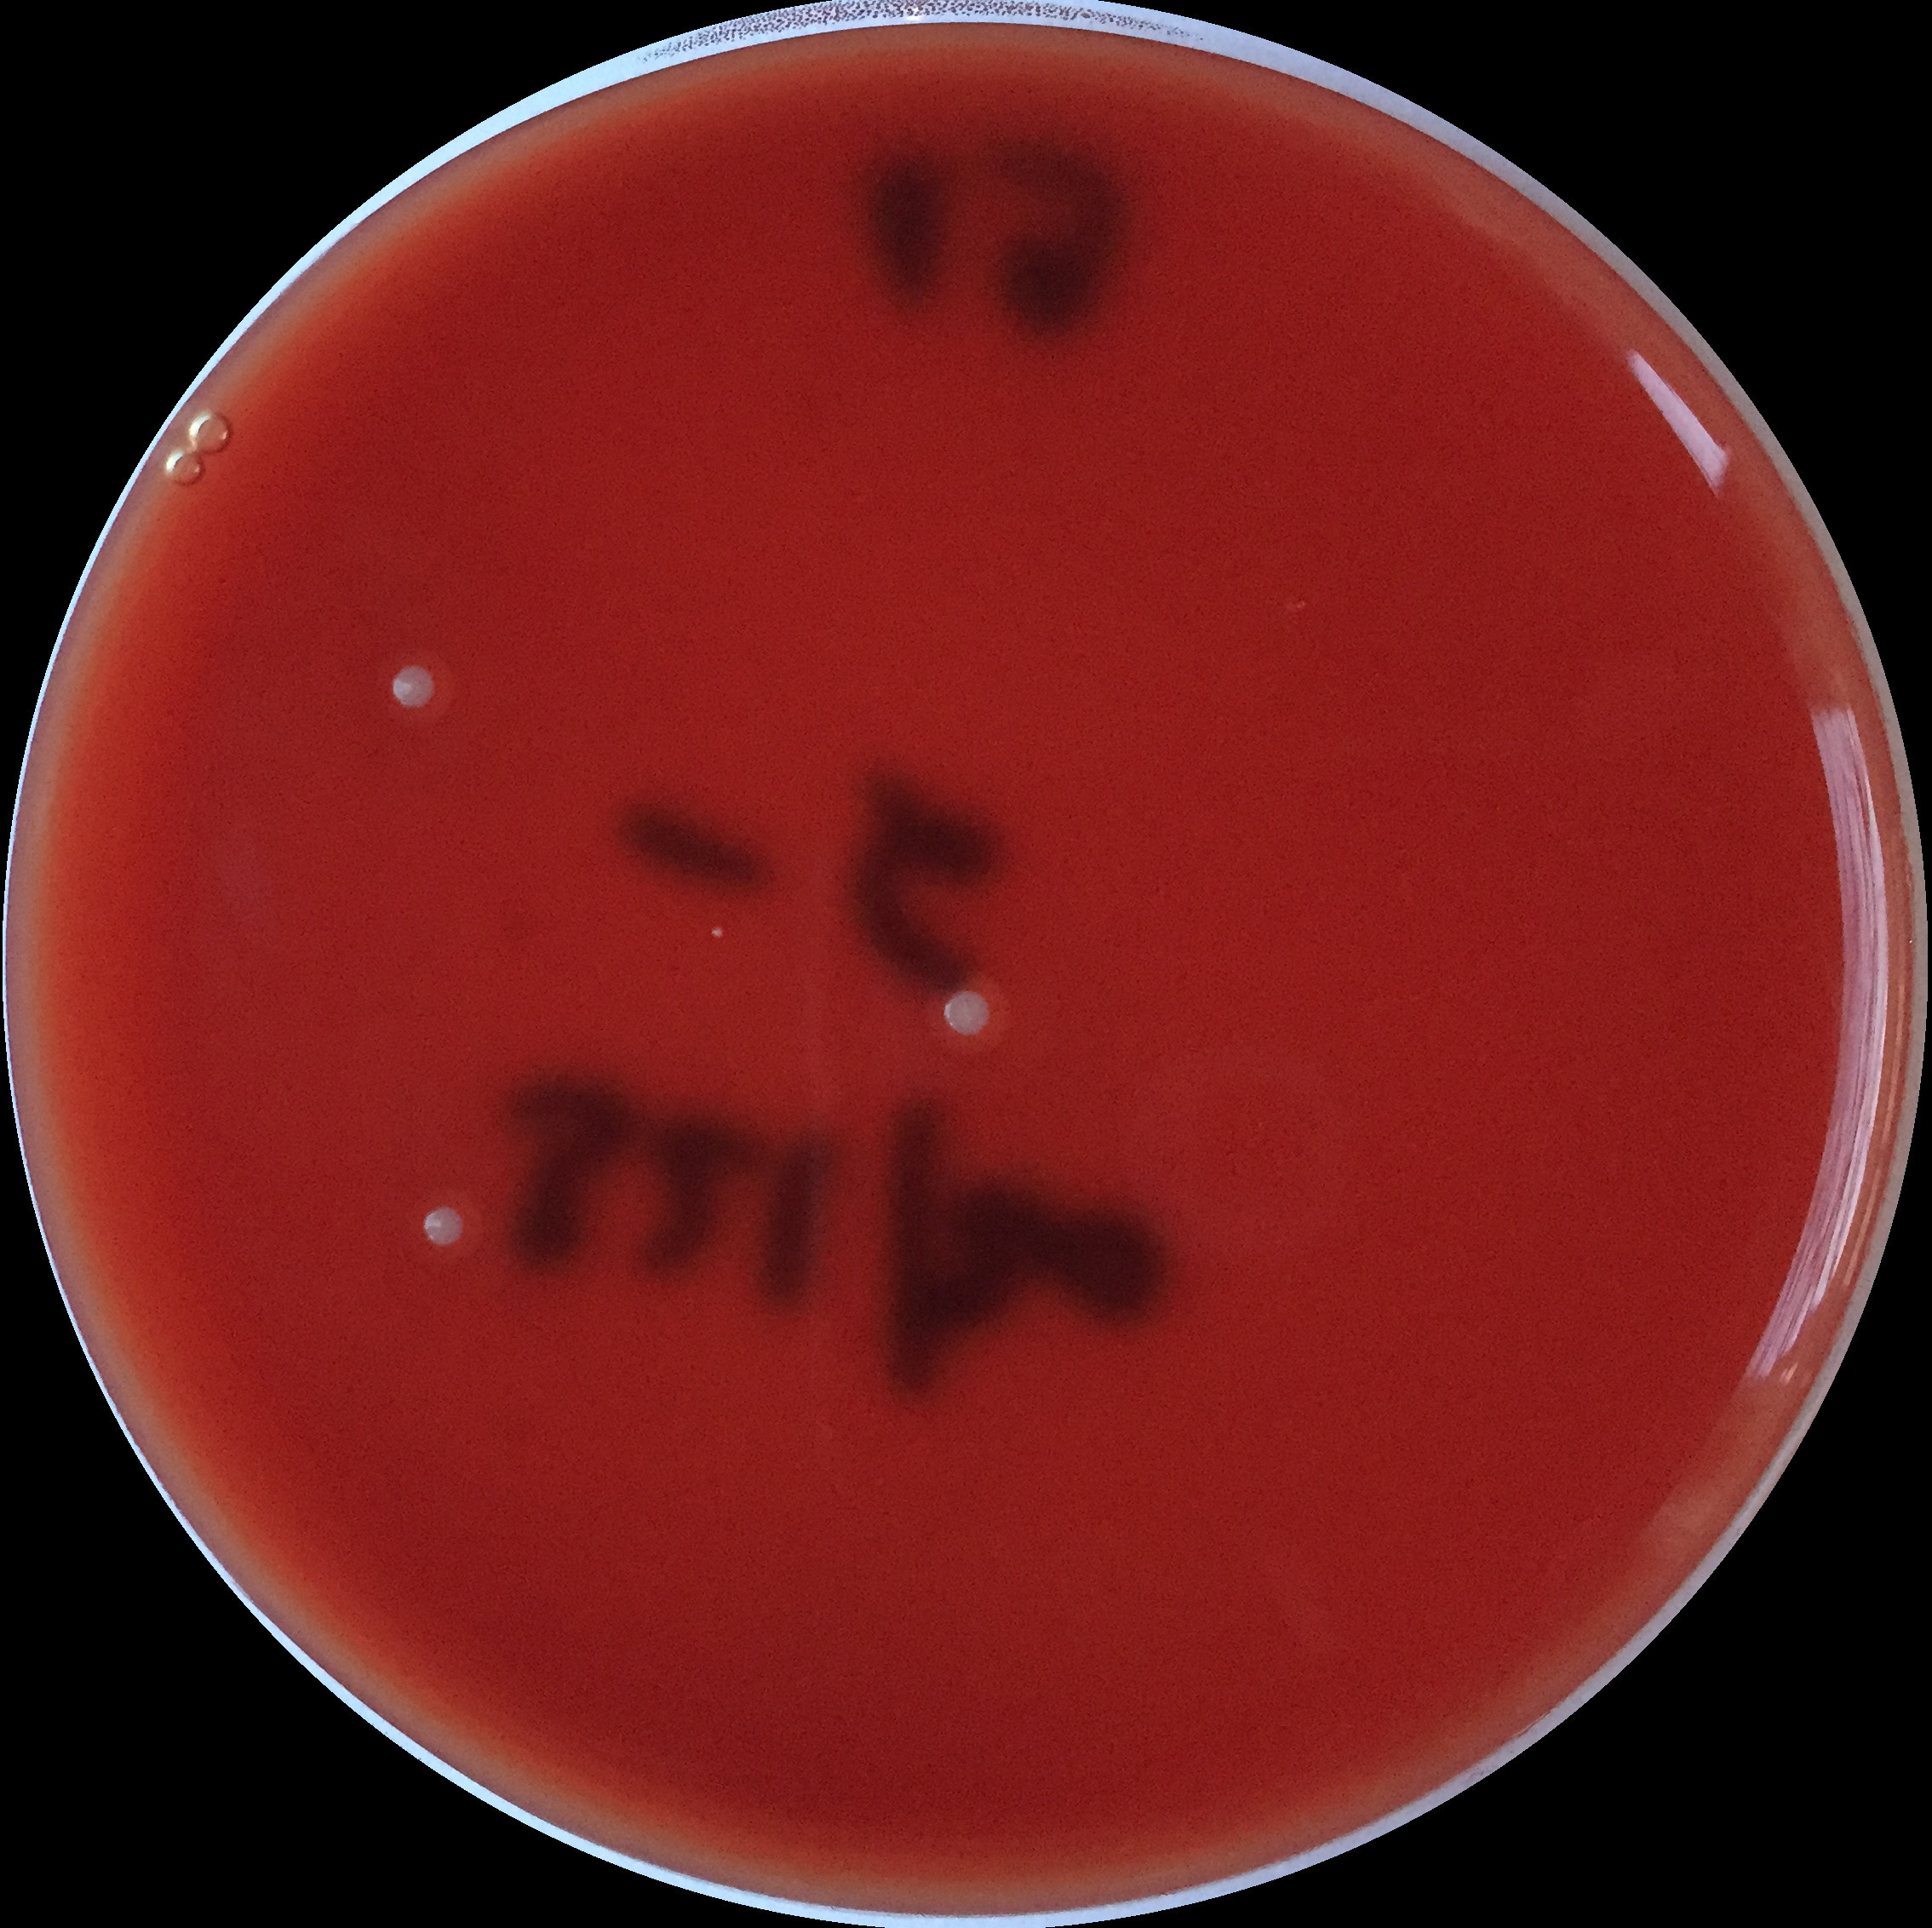sp21: (381, 1167, 500, 1294), (348, 625, 466, 747), (909, 955, 1035, 1056)
